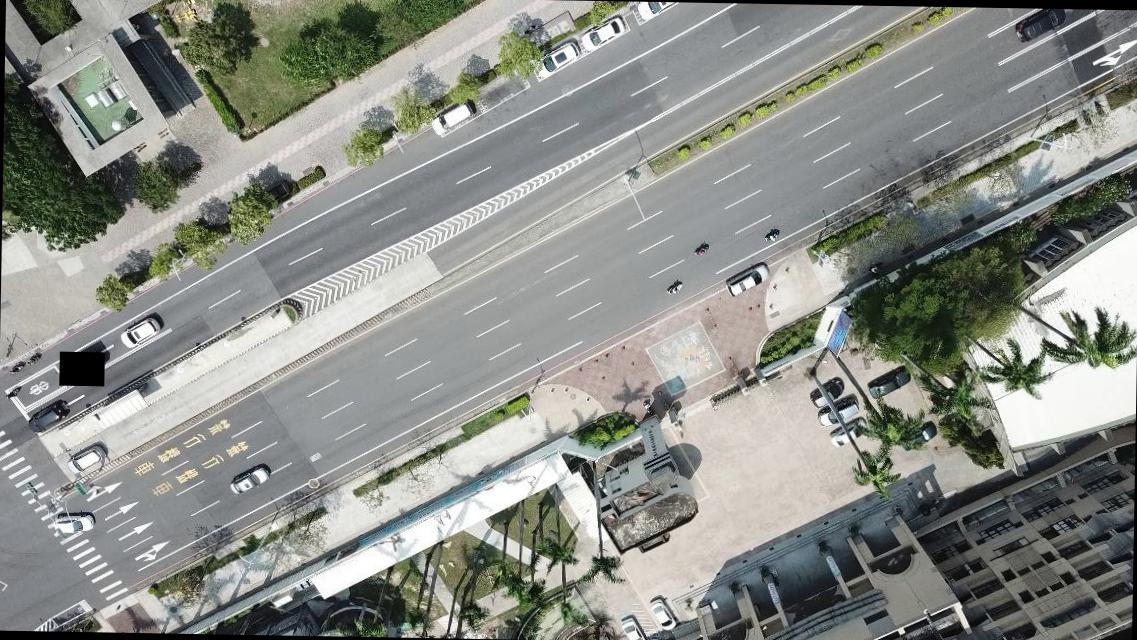vehicle: (1014, 8, 1064, 44), (724, 260, 770, 298), (580, 17, 627, 51), (535, 42, 579, 78), (867, 366, 912, 400), (430, 102, 473, 136), (26, 398, 66, 434), (817, 392, 858, 427), (898, 419, 936, 452), (830, 414, 866, 448), (120, 317, 159, 348), (810, 374, 846, 407), (66, 446, 106, 474), (230, 465, 268, 494), (54, 511, 94, 534), (649, 596, 676, 630), (618, 616, 647, 639)
